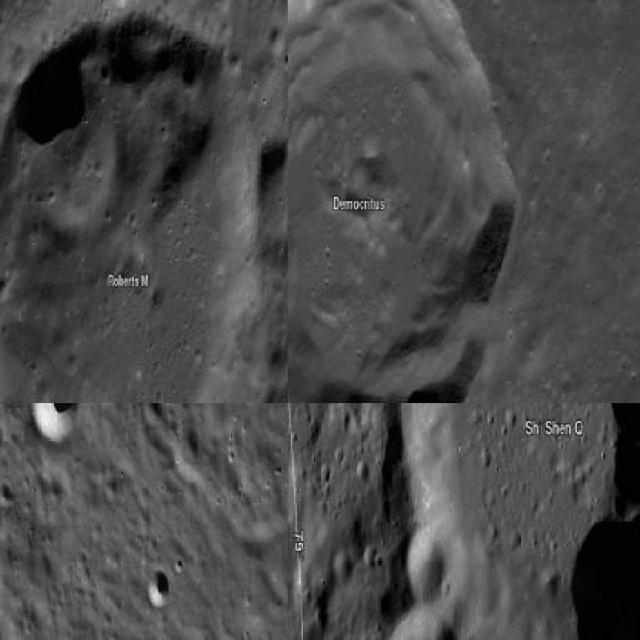crater: (0, 16, 265, 402), (288, 0, 520, 402), (398, 403, 638, 639), (32, 403, 82, 443), (148, 571, 169, 606)
